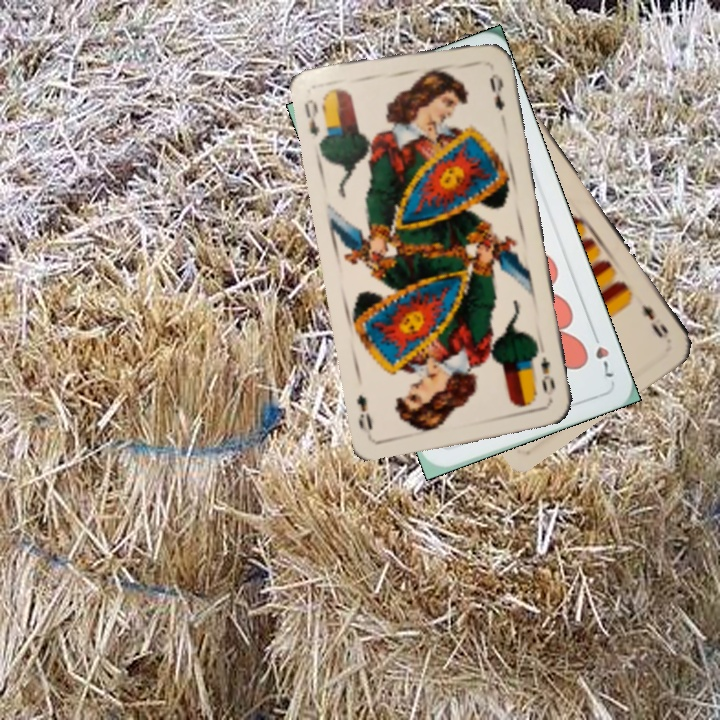E9: (637, 300, 671, 341)
EO: (300, 95, 323, 139), (536, 352, 558, 396)
H7: (588, 326, 617, 383)
